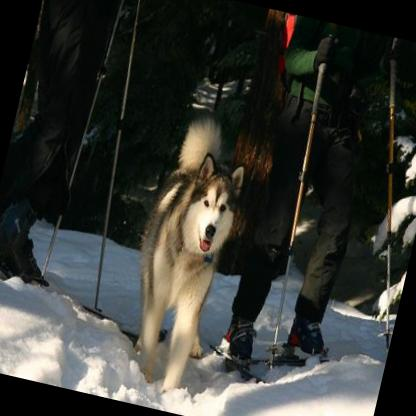malamute: (110, 106, 256, 396)
